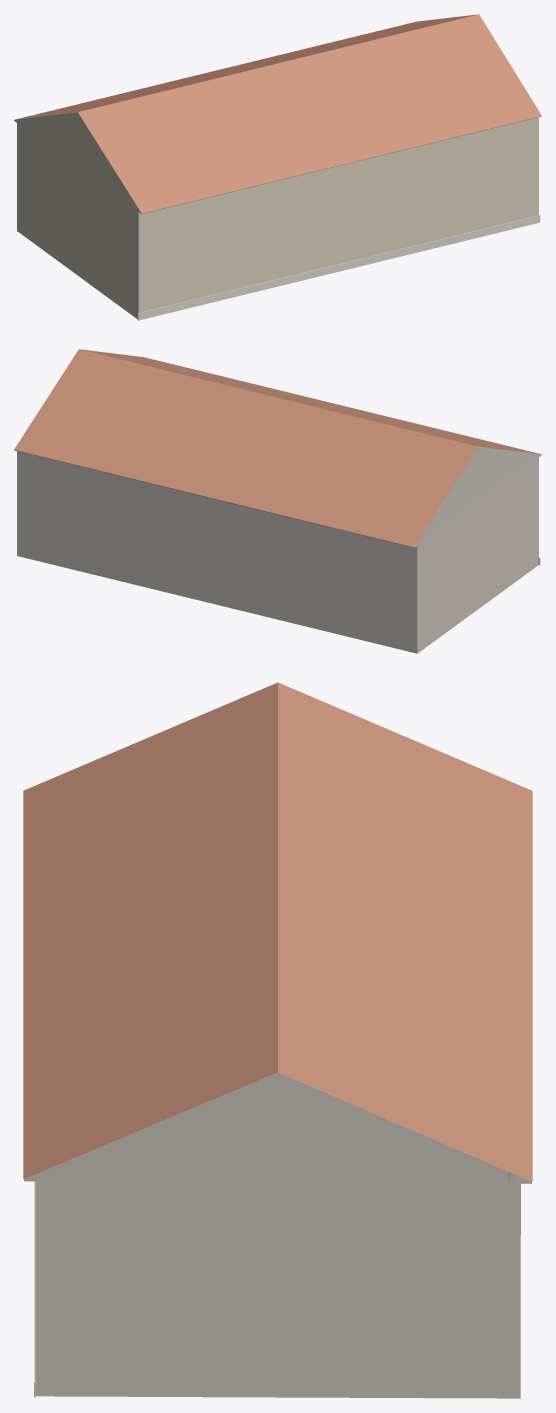
Rendered from cpG1531.glb.
The picture shows the model from 3 angles, top to bottom: view 1: azimuth 30°, elevation 25°; view 2: azimuth 150°, elevation 25°; view 3: azimuth 270°, elevation 25°; orthographic projection. The views are drawn at different scales.
Visible parts, largest first — view 1: CP_G1531_Masonry, CP_G1531_Roof, CP_G1531_Gable_L_gable, CP_G1531_Cornice_plinth_0, CP_G1531_Roof_EaveClosure_0; view 2: CP_G1531_Masonry, CP_G1531_Roof, CP_G1531_Gable_L_gable, CP_G1531_Roof_EaveClosure_1; view 3: CP_G1531_Roof, CP_G1531_Masonry, CP_G1531_Gable_R_gable.
Boxes of the visible parts, left/top/right/bottom form: CP_G1531_Masonry: left=17, top=117, right=538, bottom=318; CP_G1531_Roof: left=15, top=14, right=541, bottom=213; CP_G1531_Gable_L_gable: left=14, top=112, right=146, bottom=213; CP_G1531_Cornice_plinth_0: left=137, top=215, right=540, bottom=320; CP_G1531_Roof_EaveClosure_0: left=139, top=116, right=541, bottom=214; CP_G1531_Masonry: left=17, top=451, right=538, bottom=653; CP_G1531_Roof: left=14, top=349, right=539, bottom=547; CP_G1531_Gable_L_gable: left=409, top=446, right=541, bottom=547; CP_G1531_Roof_EaveClosure_1: left=14, top=450, right=416, bottom=548; CP_G1531_Roof: left=23, top=682, right=532, bottom=1181; CP_G1531_Masonry: left=35, top=1179, right=520, bottom=1398; CP_G1531_Gable_R_gable: left=24, top=1072, right=531, bottom=1182.
Bounding box in the file's own units: 23.25 × 9 × 12.77.
